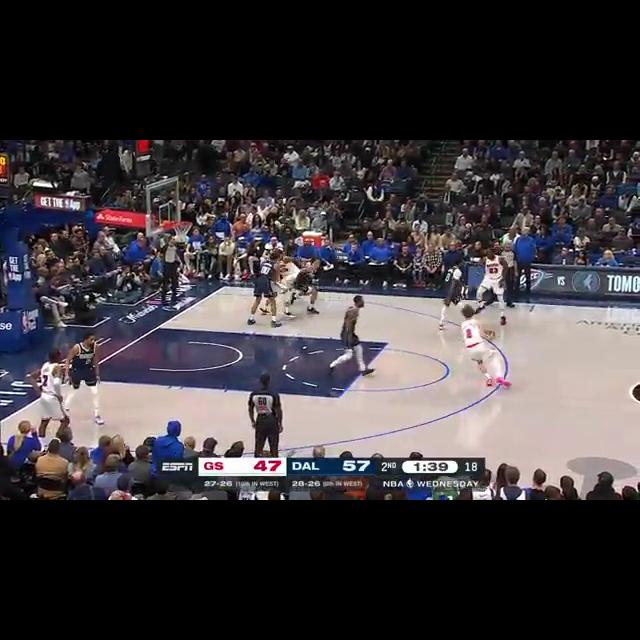Team-1-Player: (324, 296, 378, 382), (61, 331, 110, 413), (244, 252, 286, 328), (438, 258, 472, 318), (290, 259, 326, 315)
Team-2-Player: (452, 308, 512, 390), (26, 347, 76, 435), (466, 250, 520, 322)
